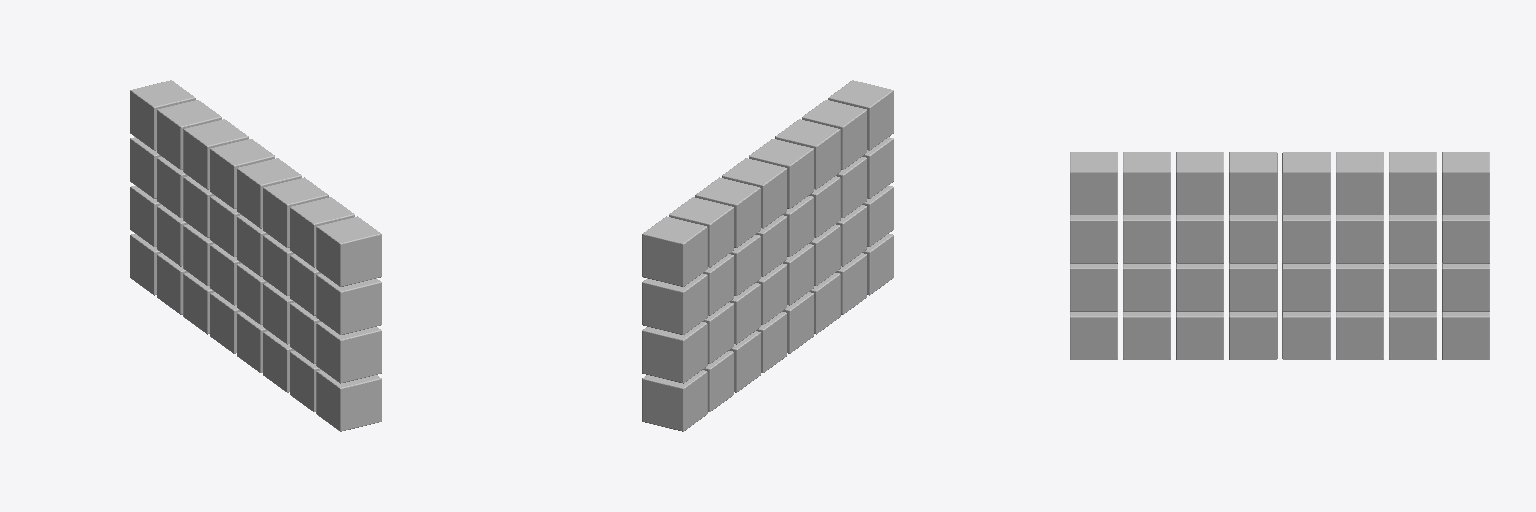
File: mainleft.obj
The picture shows the model from 3 angles: view 1: azimuth 30°, elevation 25°; view 2: azimuth 150°, elevation 25°; view 3: azimuth 270°, elevation 25°; orthographic projection.
Parts seen in each view (by area): view 1: Cube.004_Cube.006; view 2: Cube.004_Cube.006; view 3: Cube.004_Cube.006.
Boxes of the visible parts, x1=… form: Cube.004_Cube.006: x1=130, y1=80, x2=381, y2=431; Cube.004_Cube.006: x1=642, y1=80, x2=893, y2=431; Cube.004_Cube.006: x1=1070, y1=152, x2=1489, y2=359.
Size of the model in its own units: 6 by 25.8 by 52.2.